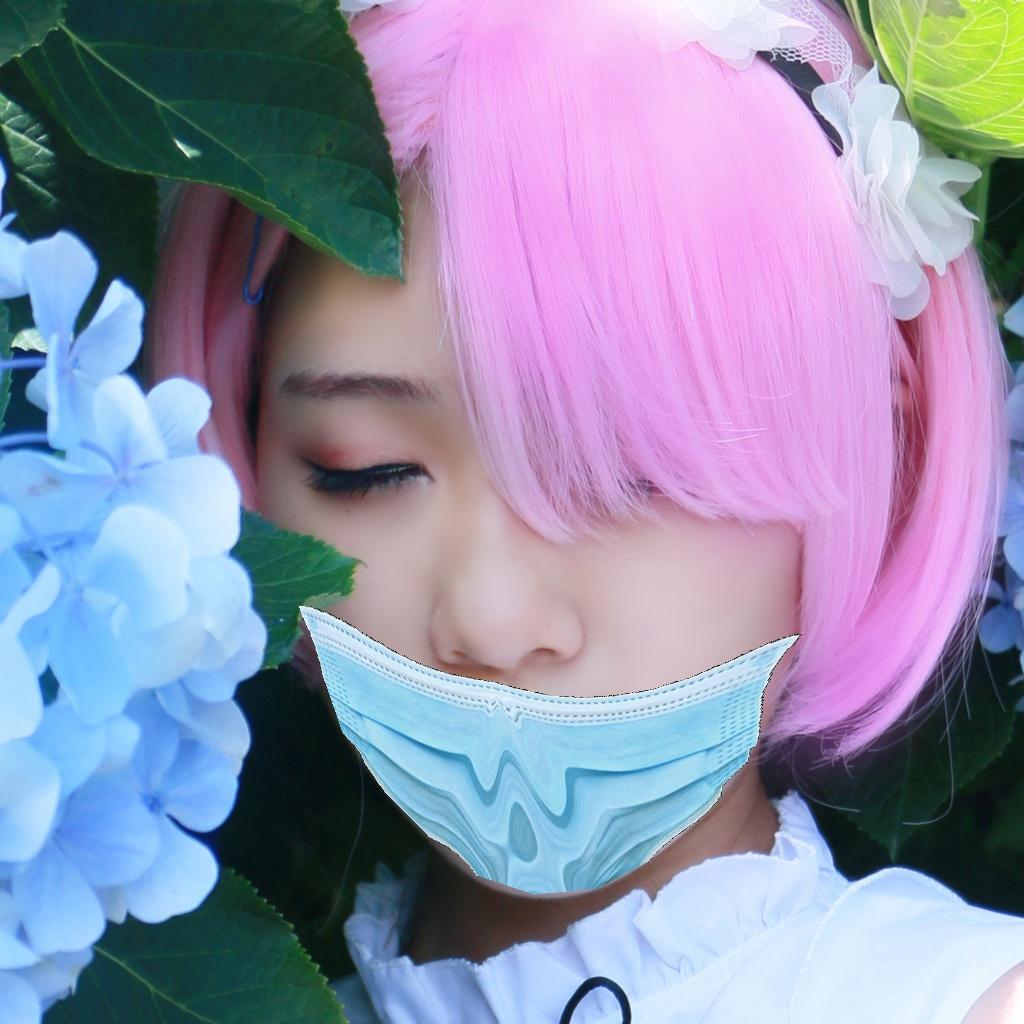Máscara Incorreta: (210, 218, 822, 893)
